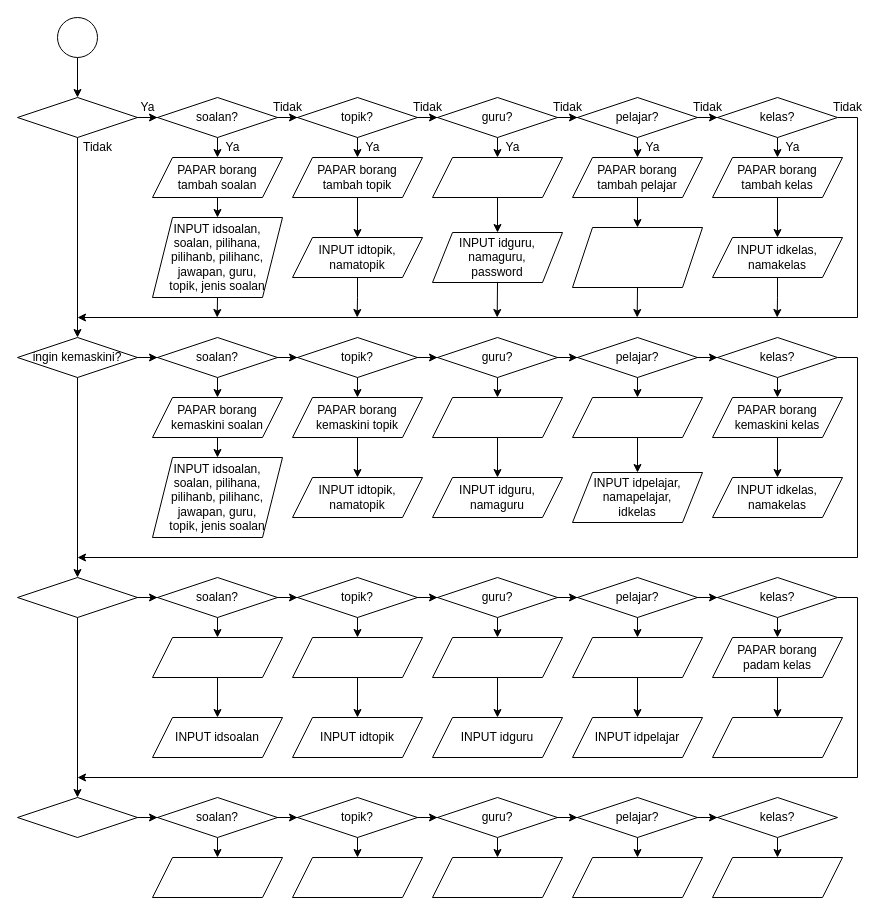
This 885x915 diagram has some shape labels left out. Each missing label, with the centre of its shape:
"ingin padam?" goes at [77,597].
"ingin tambah?" goes at [77,117].
"INPUT idkelas" goes at [777,737].
"INPUT idpelajar, namapelajar, idkelas, password" goes at [637,257].
"PAPAR borang kemaskini guru" goes at [497,417].
"PAPAR borang kemaskini pelajar" goes at [637,417].
"PAPAR borang padam guru" goes at [497,657].
"PAPAR borang padam pelajar" goes at [637,657].
"PAPAR borang padam soalan" goes at [217,657].
"PAPAR borang padam topik" goes at [357,657].
"PAPAR borang tambah guru" goes at [497,177].
"PAPAR senarai guru" goes at [497,877].
"PAPAR senarai kelas" goes at [777,877].
"PAPAR senarai pelajar" goes at [637,877].
"PAPAR senarai soalan" goes at [217,877].
"PAPAR senarai topik" goes at [357,877].
"senarai?" goes at [77,817].
